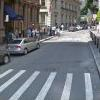Crosswalk: (4, 64, 99, 100)
